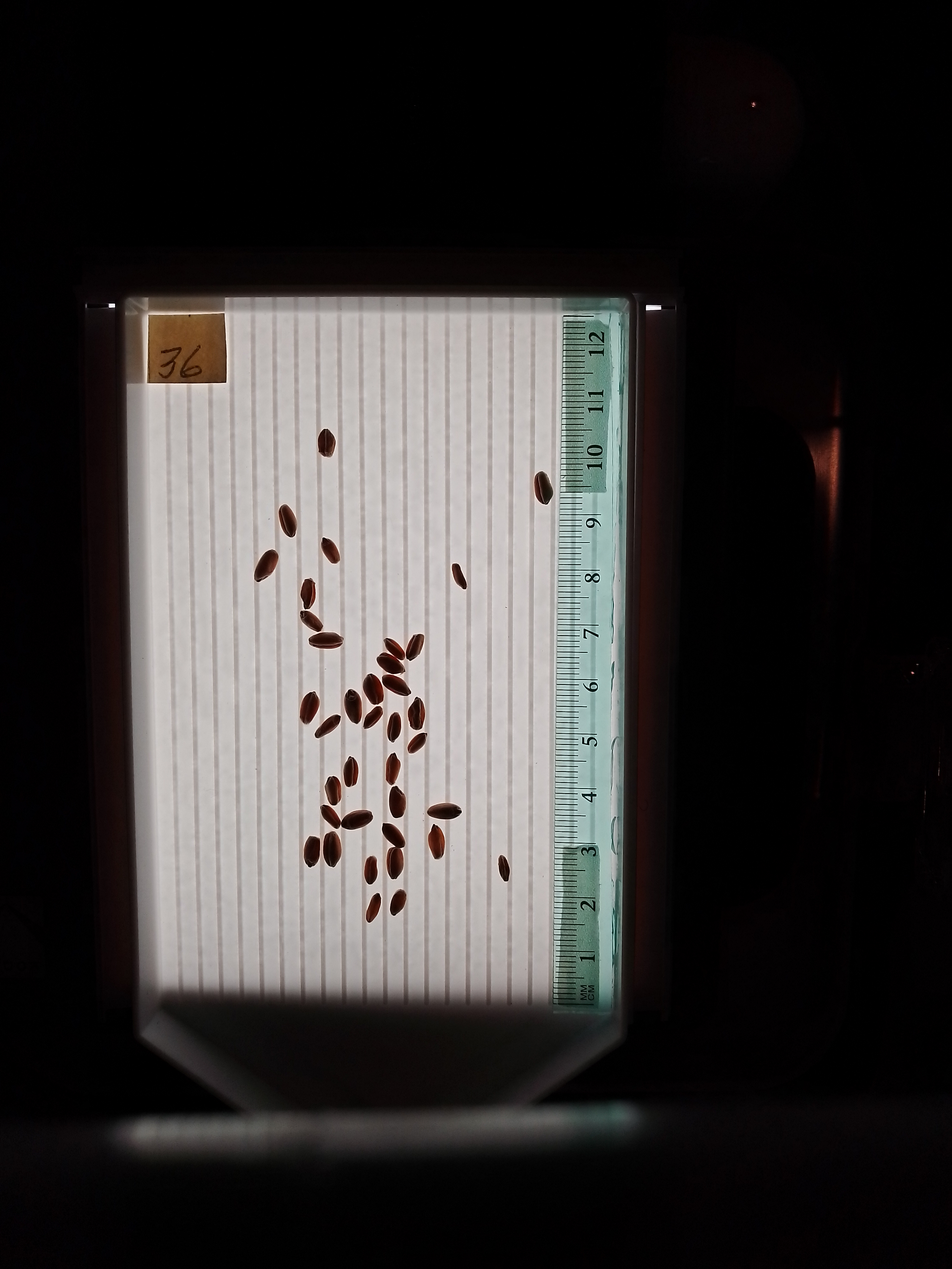seed mask: (254, 550, 278, 582), (534, 472, 553, 505), (324, 833, 342, 867), (342, 810, 372, 830), (428, 802, 461, 820), (344, 690, 362, 723), (309, 632, 342, 650), (300, 693, 319, 724), (364, 675, 384, 704), (316, 714, 340, 738), (279, 505, 297, 537), (428, 826, 445, 859), (383, 675, 410, 695), (382, 823, 404, 847), (378, 653, 402, 675), (321, 537, 340, 564), (409, 698, 425, 730), (387, 849, 404, 878), (389, 787, 406, 816), (304, 837, 320, 867), (318, 429, 335, 457), (300, 611, 322, 632), (343, 757, 358, 787), (325, 776, 341, 804), (407, 634, 424, 660), (386, 754, 401, 783), (366, 894, 381, 922), (301, 580, 316, 608), (321, 805, 340, 827), (387, 714, 401, 742), (385, 638, 404, 658), (364, 857, 378, 884), (390, 892, 406, 915), (452, 564, 466, 589), (409, 733, 426, 753), (365, 708, 382, 728), (499, 856, 510, 881)
